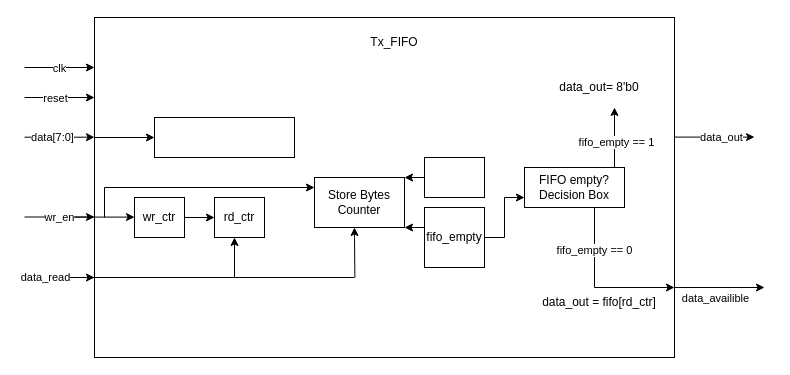
Some shapes in this 790 by 375 pixel diagram are drawn without their labels. The shapes that lost their labels are listed below. From the top down, each one's centre as x and y in pixels, then its label:
At pixel 224 137: "FIFO Memory (8x8-bit)".
At pixel 454 177: "tx_ff".
